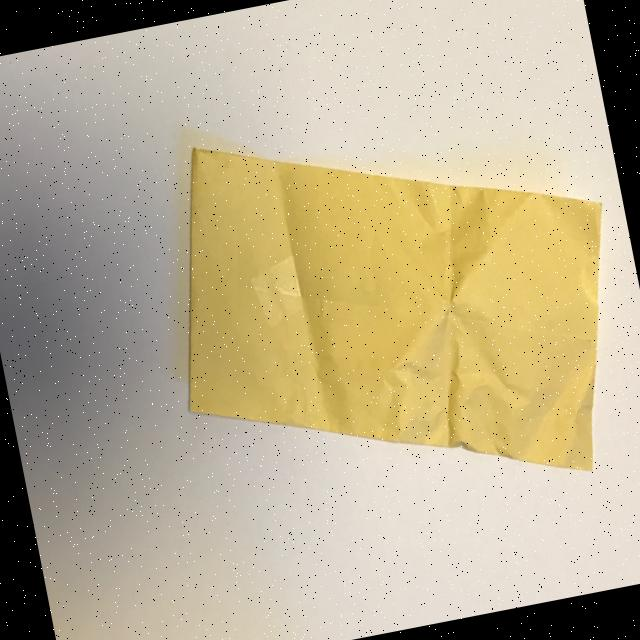paper: (139, 71, 640, 545)
